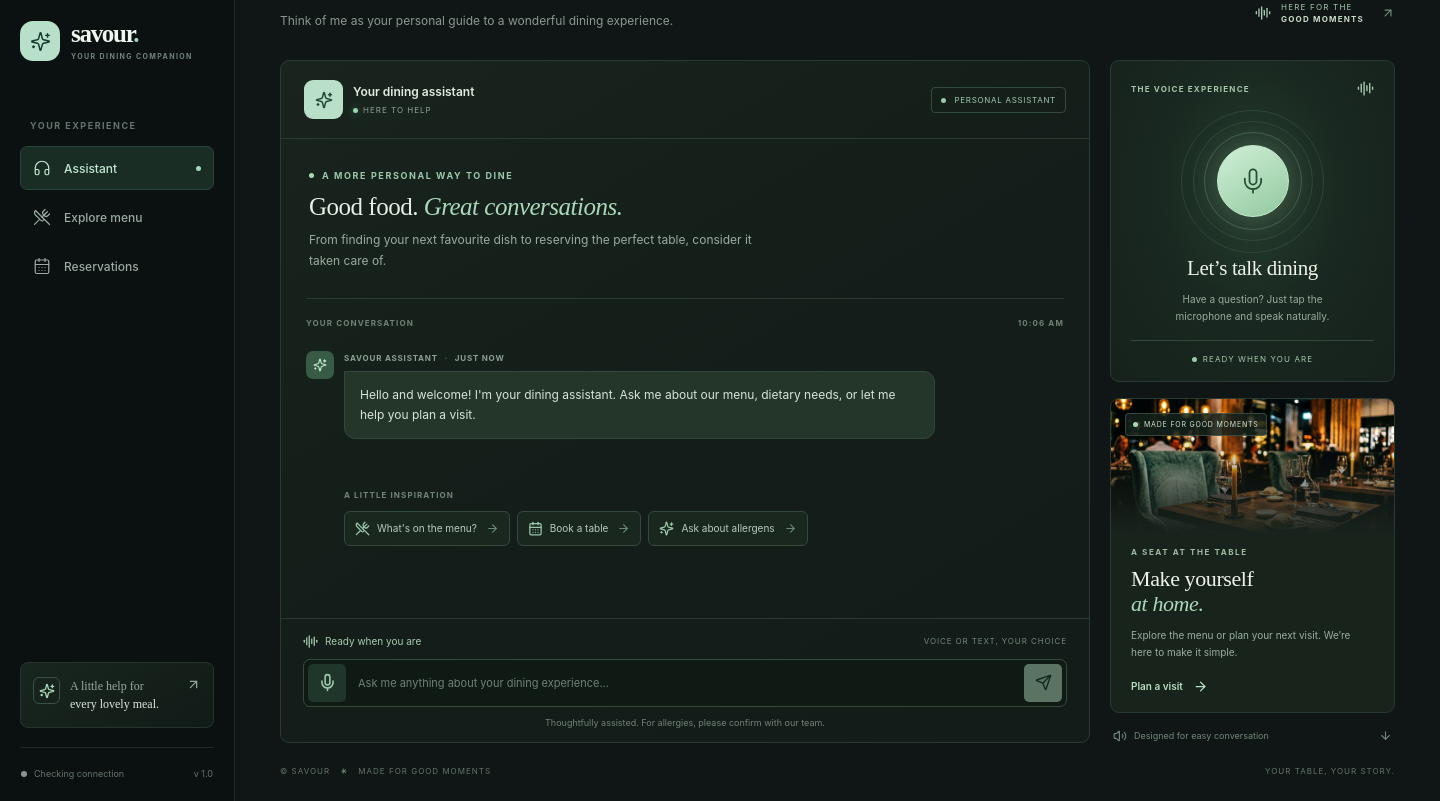
Scenario: restaurant experience › sends text and keeps a UUID in session storage
(page scrolled)
Type "Hello" into the field named "Your message".
click(685, 682); type("Hello")  # box [346,676,1024,690]
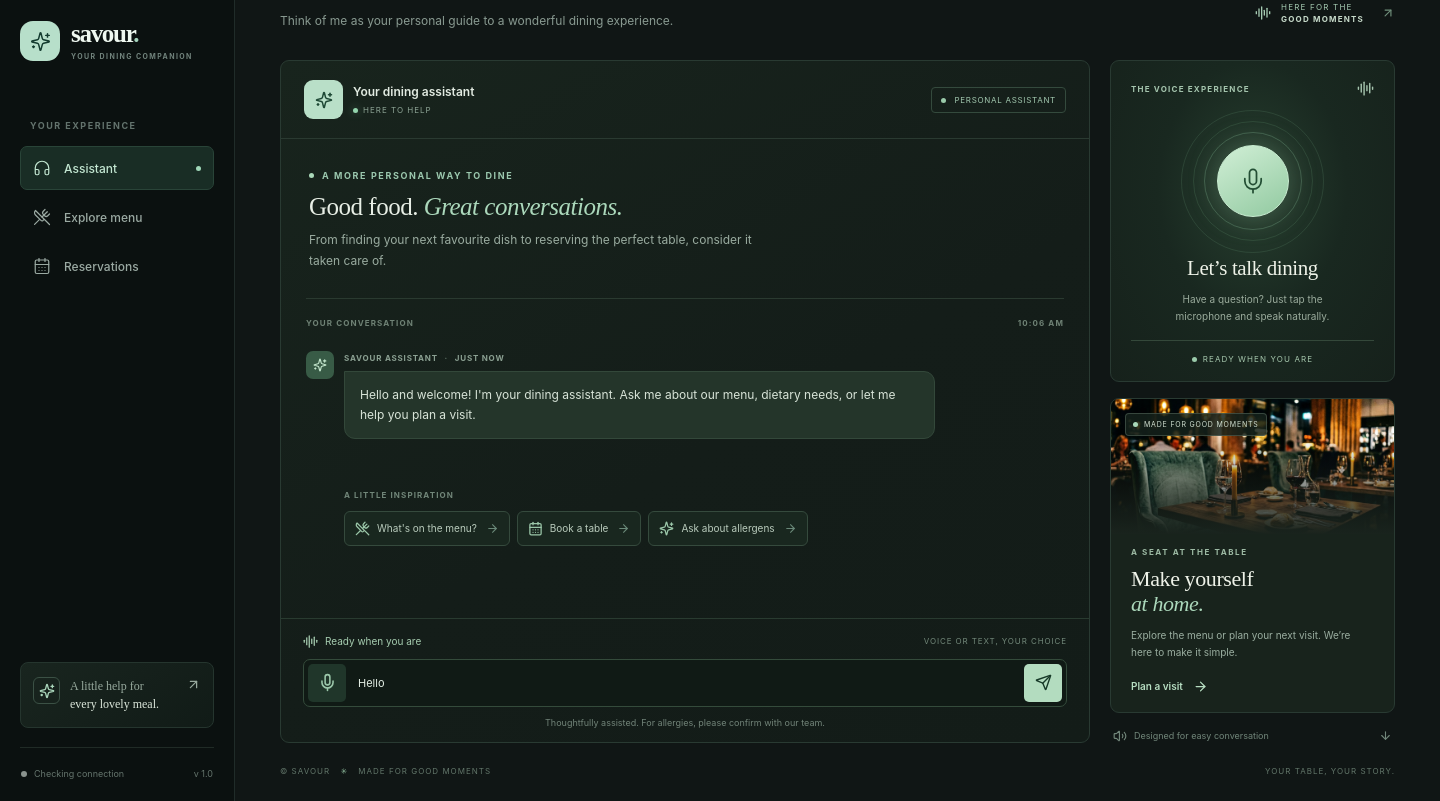
Click the button named "Send message".
click(1043, 682)  # box [1024,664,1062,702]
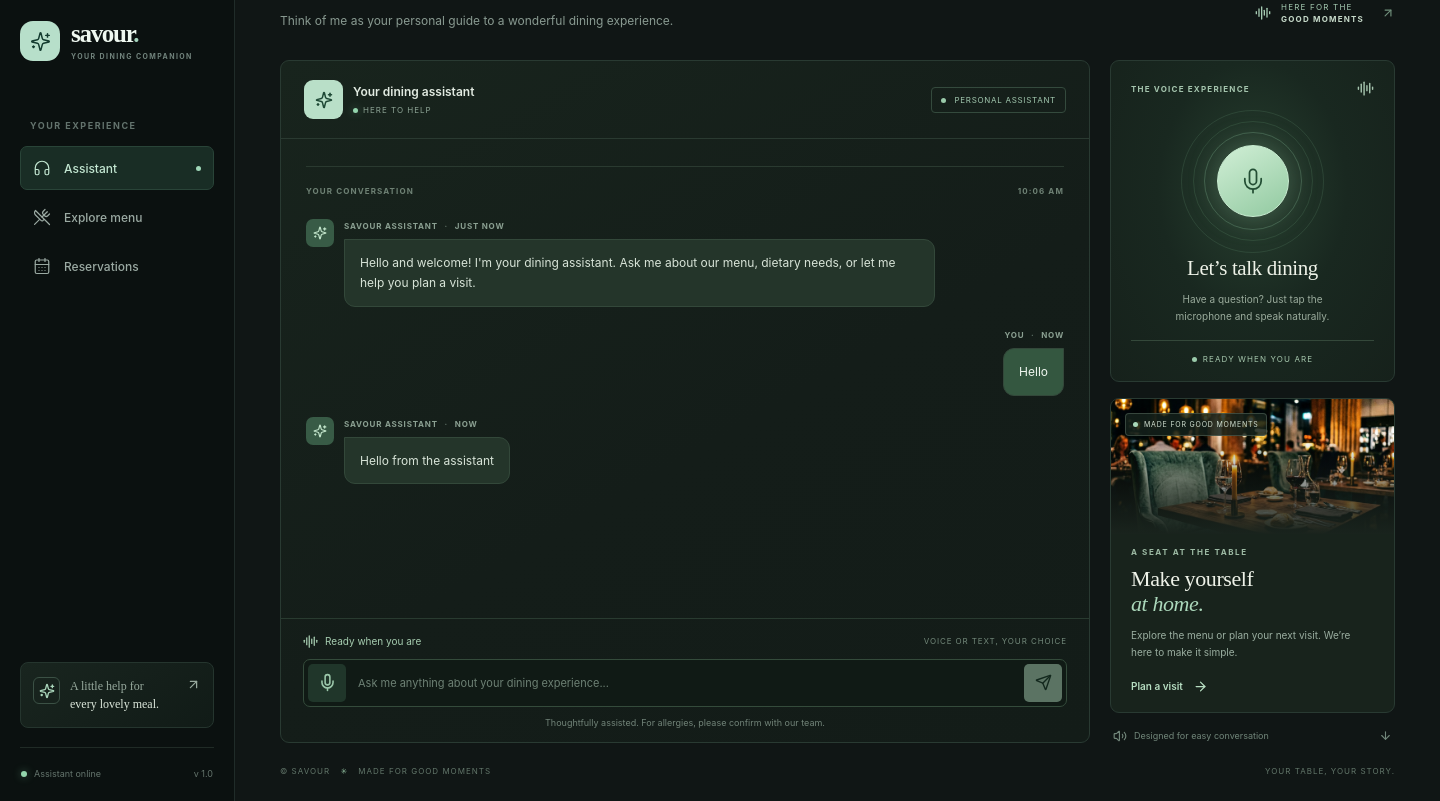
Expected: the text "Hello from the assistant" is shown, [344,437,510,484]
